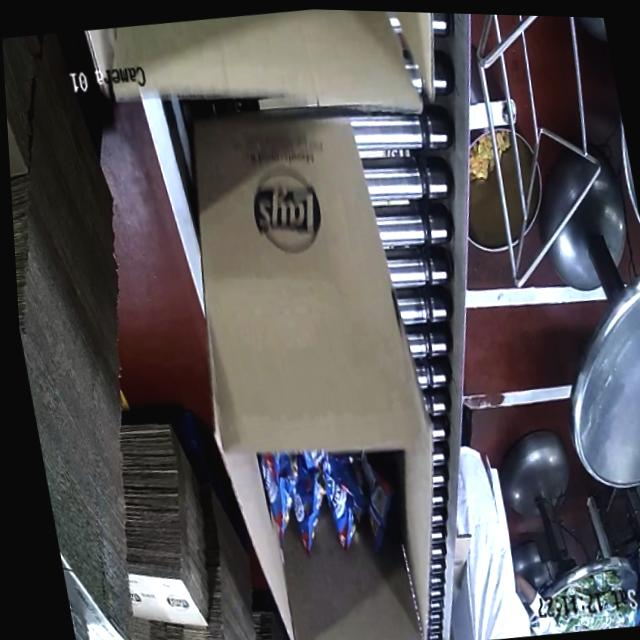PAPRIKA: (247, 446, 406, 566)
